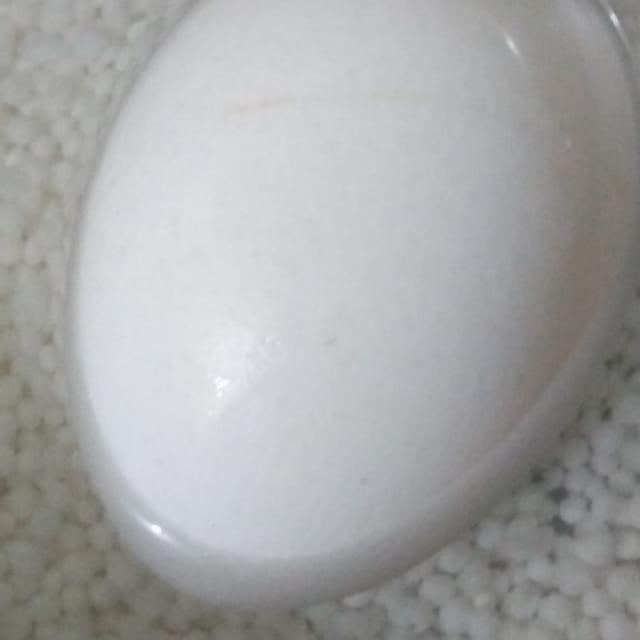egg: (58, 0, 640, 613)
